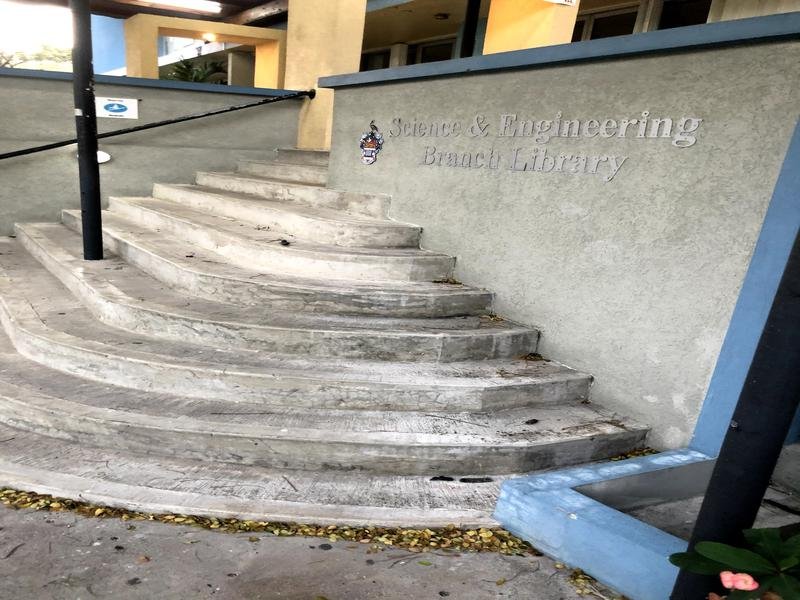18.0053644_-76.7493880_librarysign: (385, 101, 715, 195)
